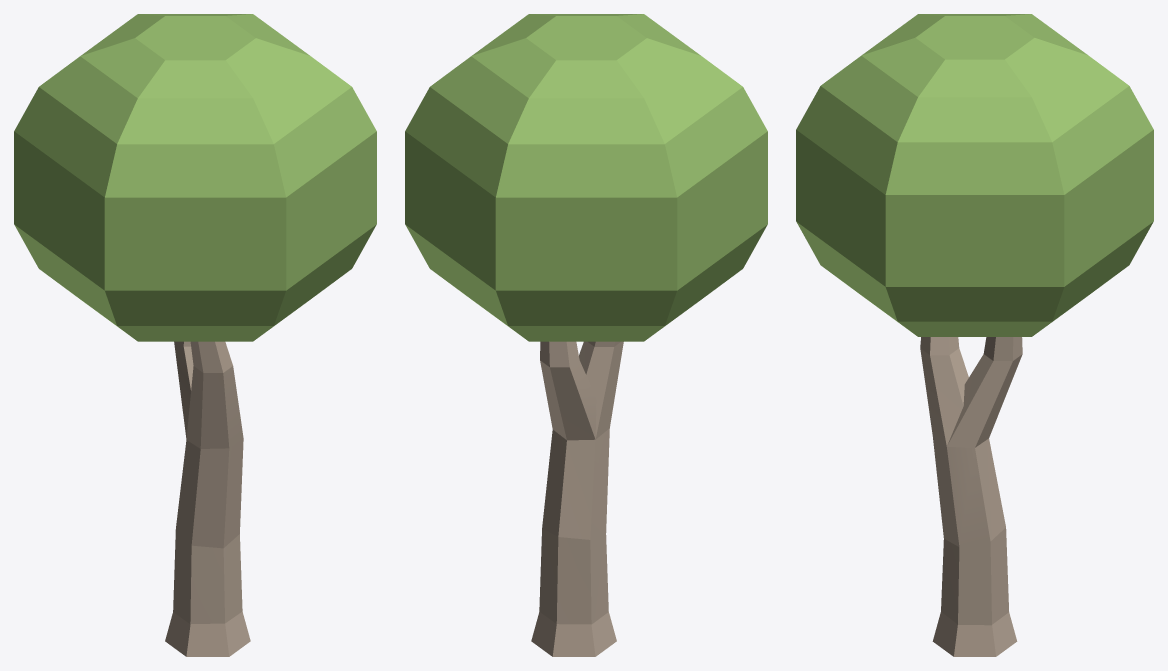
Rendered from Hilly_Prop_Tree_Oak_2.glb.
The picture shows the model from 3 angles, left to right: view 1: azimuth 30°, elevation 25°; view 2: azimuth 150°, elevation 25°; view 3: azimuth 270°, elevation 25°; orthographic projection.
Parts seen in each view (by area): view 1: Hilly_Prop_Tree_Oak_2; view 2: Hilly_Prop_Tree_Oak_2; view 3: Hilly_Prop_Tree_Oak_2.
Part boxes in pixels (x1,y1,x2,y2): Hilly_Prop_Tree_Oak_2: (14, 14, 376, 656); Hilly_Prop_Tree_Oak_2: (405, 14, 767, 656); Hilly_Prop_Tree_Oak_2: (796, 14, 1153, 656).
Size of the model in its own units: 2.2 by 4.68 by 2.54.
